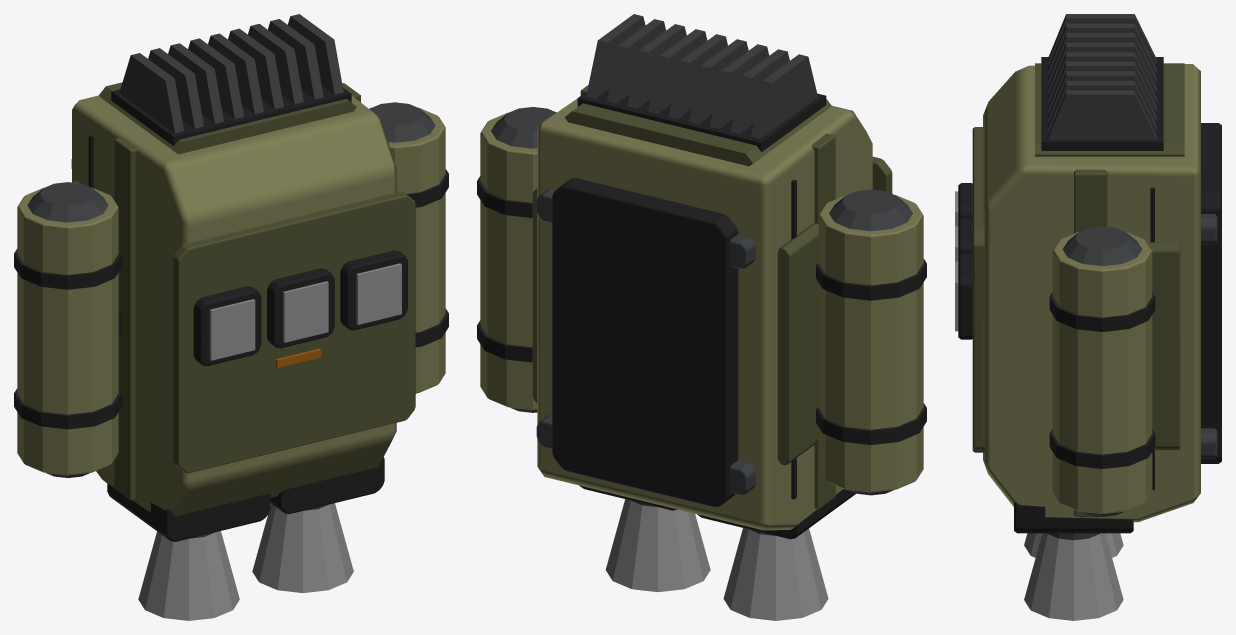
Rendered from backpack_heavy.glb.
3 views of the same model, side by side, from view 1: azimuth 30°, elevation 25°; view 2: azimuth 150°, elevation 25°; view 3: azimuth 270°, elevation 25° (orthographic). The views are drawn at different scales.
Parts seen in each view (by area): view 1: Body, BackPlate, Tank0, Tank1, Nozzle0, Nozzle1, BodyBand, NozzleHousing0, TopCap, Fin0, RadiatorFrame, NozzleHousing1 (+19 smaller); view 2: MountPlate, Body, Tank0, Tank1, SidePlateL, Nozzle0, Nozzle1, TopCap, Fin0, RadiatorFrame, TankCapTop0, BodyBand (+18 smaller); view 3: Body, Tank1, Nozzle1, MountPlate, SidePlateR, Fin8, BackPlate, TopCap, RadiatorFrame, TankCapTop1, NozzleHousing1, BodyBand (+17 smaller).
Part boxes in pixels (x1,y1,x2,y2): Body: [72, 95, 396, 516]; BackPlate: [173, 191, 415, 473]; Tank0: [17, 187, 118, 475]; Tank1: [369, 107, 445, 392]; Nozzle0: [138, 531, 239, 620]; Nozzle1: [252, 503, 353, 592]; BodyBand: [114, 83, 360, 500]; NozzleHousing0: [107, 483, 270, 541]; TopCap: [98, 82, 356, 154]; Fin0: [119, 53, 183, 133]; RadiatorFrame: [111, 85, 351, 145]; NozzleHousing1: [270, 457, 384, 514]; MountPlate: [552, 178, 738, 507]; Body: [537, 98, 872, 530]; Tank0: [818, 195, 923, 492]; Tank1: [480, 112, 537, 409]; SidePlateL: [777, 223, 818, 465]; Nozzle0: [723, 528, 828, 620]; Nozzle1: [605, 499, 710, 592]; TopCap: [564, 99, 831, 166]; Fin0: [751, 54, 817, 138]; RadiatorFrame: [577, 89, 826, 152]; TankCapTop0: [829, 189, 912, 231]; BodyBand: [580, 85, 835, 509]; Body: [983, 64, 1200, 522]; Tank1: [1052, 232, 1152, 513]; Nozzle1: [1024, 533, 1123, 620]; MountPlate: [1201, 123, 1221, 463]; SidePlateR: [1147, 242, 1180, 449]; Fin8: [1047, 90, 1156, 139]; BackPlate: [972, 127, 985, 452]; TopCap: [1035, 63, 1184, 156]; RadiatorFrame: [1041, 57, 1163, 150]; TankCapTop1: [1062, 226, 1142, 265]; NozzleHousing1: [1014, 502, 1133, 533]; BodyBand: [1074, 169, 1107, 517].
Size of the model in its own units: 2.29 by 2.75 by 1.28.
